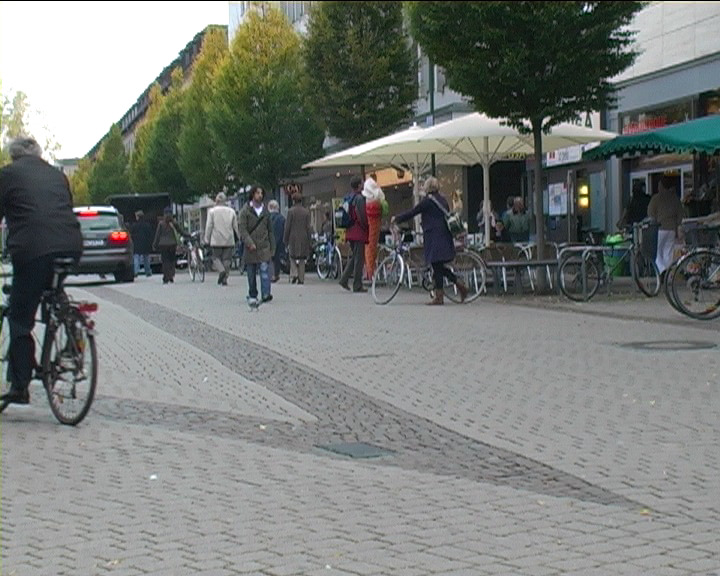undeflect: (238, 189, 279, 224)
